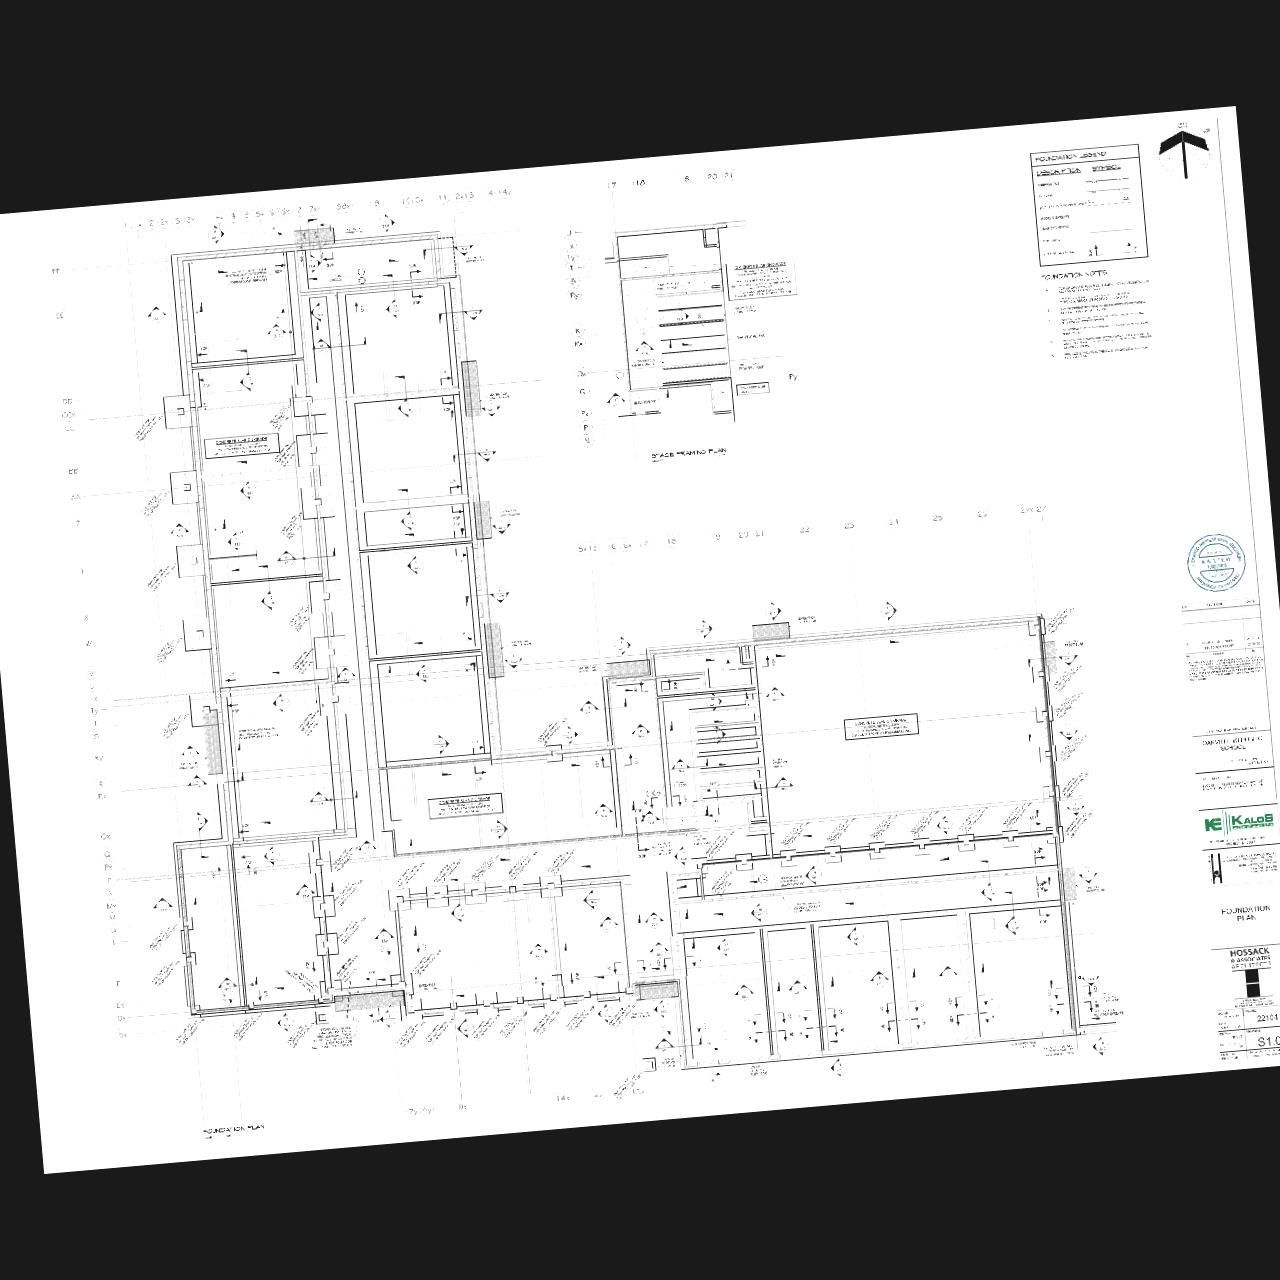detail: (695, 312, 705, 321)
elevation: (412, 662, 436, 686), (877, 598, 900, 622), (475, 442, 499, 465), (238, 478, 261, 502), (489, 514, 514, 536), (274, 548, 299, 570), (293, 881, 318, 903), (935, 812, 956, 838), (748, 900, 771, 923), (612, 634, 634, 658), (1056, 646, 1080, 668), (1076, 864, 1100, 886), (1090, 1034, 1112, 1058), (773, 774, 797, 796), (671, 844, 693, 868), (669, 756, 693, 778), (629, 722, 653, 744), (580, 887, 602, 911), (384, 296, 406, 320), (238, 369, 260, 393), (258, 588, 280, 612), (334, 664, 358, 686), (1078, 968, 1104, 988), (762, 599, 784, 622), (652, 998, 674, 1021), (489, 584, 512, 606), (764, 684, 787, 706), (804, 863, 826, 886), (597, 914, 620, 936), (404, 553, 426, 576), (311, 336, 334, 358), (270, 692, 292, 715), (604, 391, 628, 412), (178, 742, 202, 763), (376, 210, 397, 234), (460, 301, 484, 322), (936, 963, 960, 984), (786, 978, 810, 999), (732, 982, 756, 1003), (638, 809, 662, 830), (262, 844, 283, 868), (216, 975, 240, 996), (652, 1036, 677, 1056), (702, 691, 724, 713), (373, 926, 395, 948), (1065, 797, 1088, 818), (829, 1056, 850, 1079), (596, 1002, 617, 1025), (152, 895, 175, 916), (168, 520, 191, 541), (979, 880, 1000, 903), (1003, 914, 1024, 937), (868, 969, 891, 990), (448, 901, 469, 924), (488, 818, 509, 841), (356, 838, 379, 859), (398, 509, 419, 532), (308, 300, 329, 323), (308, 788, 331, 809), (694, 616, 714, 640), (456, 1016, 476, 1040), (190, 809, 210, 833), (452, 238, 476, 258), (502, 650, 526, 670), (560, 722, 580, 746), (716, 936, 736, 960), (592, 802, 616, 822), (304, 252, 324, 276), (578, 698, 600, 719), (226, 530, 247, 552), (1057, 722, 1080, 742), (378, 1008, 398, 1031), (146, 304, 169, 324), (207, 223, 227, 246), (527, 941, 550, 961), (671, 306, 691, 328), (634, 340, 656, 360), (276, 1012, 296, 1034), (186, 773, 208, 793), (480, 398, 502, 418), (846, 926, 866, 948), (644, 910, 666, 930), (708, 724, 728, 746), (432, 732, 452, 754), (396, 396, 416, 418), (649, 940, 670, 960), (266, 322, 287, 342)
title: (648, 444, 728, 466), (201, 1120, 268, 1142)
